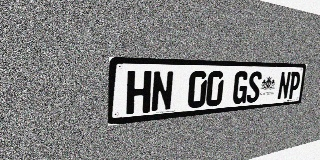0: (187, 71, 208, 109), (205, 71, 225, 107)
G: (232, 71, 249, 104)
H: (126, 71, 152, 115)
N: (150, 71, 174, 112), (277, 71, 291, 100)
P: (287, 72, 301, 99)
S: (246, 71, 262, 103)
